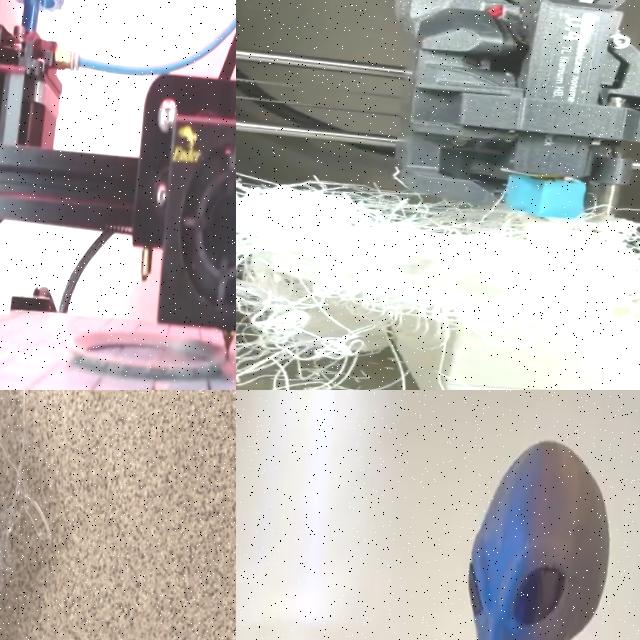spaghetti: (236, 139, 640, 390)
